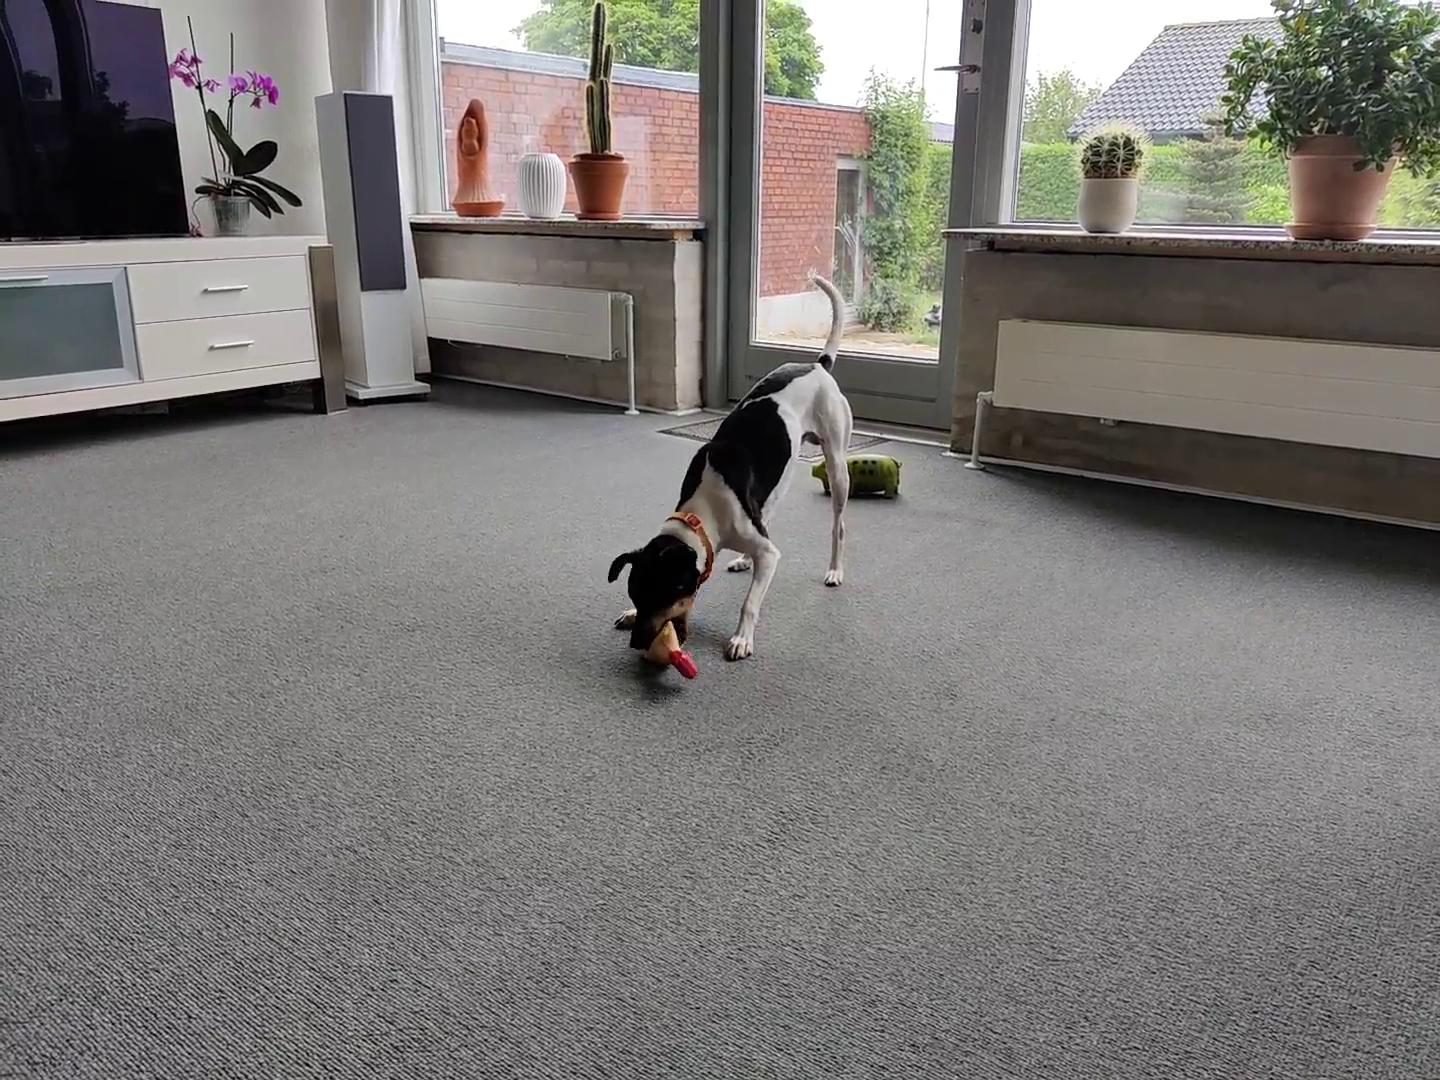Dog: (605, 269, 853, 663)
